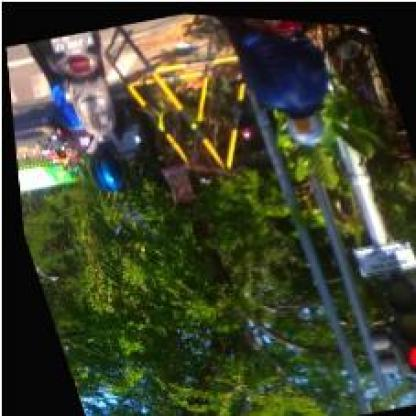red: (373, 262, 415, 376)
